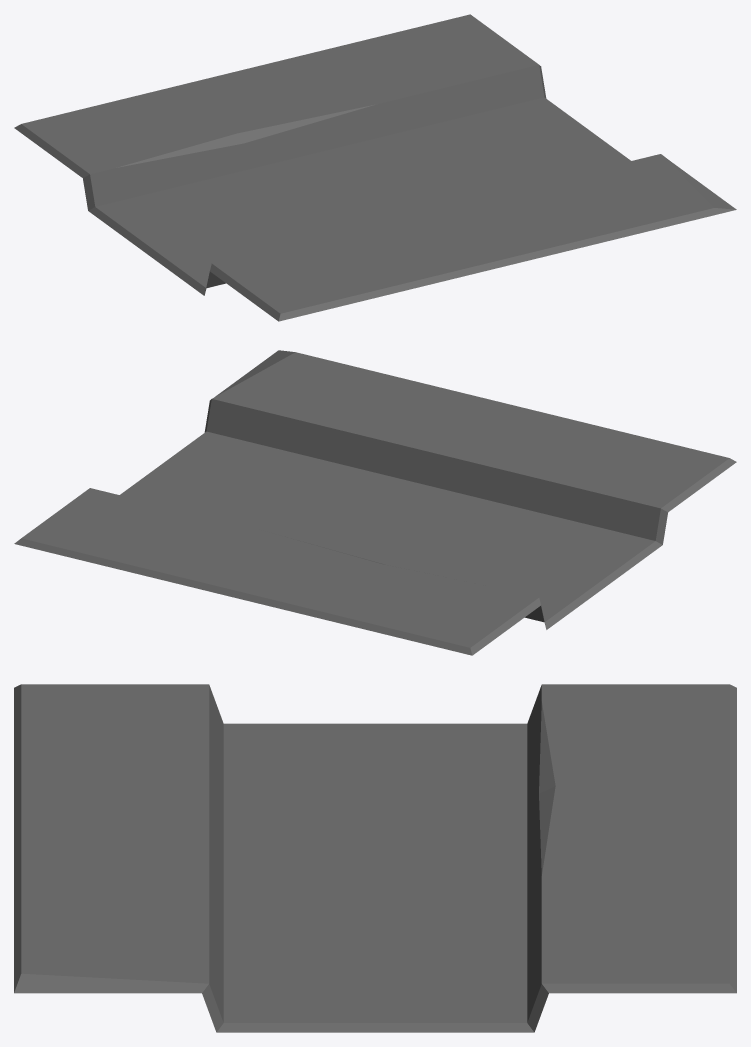
File: SM_Envr_Canal_Floor_05.fbx
3 views of the same model, one above another, from view 1: azimuth 30°, elevation 25°; view 2: azimuth 150°, elevation 25°; view 3: azimuth 270°, elevation 25° (orthographic). The views are drawn at different scales.
Visible parts, largest first — view 1: SM_Envr_Canal_Floor_05; view 2: SM_Envr_Canal_Floor_05; view 3: SM_Envr_Canal_Floor_05.
Boxes of the visible parts, x1,y1,x2,y2 form: SM_Envr_Canal_Floor_05: (14, 14, 736, 321); SM_Envr_Canal_Floor_05: (14, 350, 736, 655); SM_Envr_Canal_Floor_05: (14, 684, 736, 1032).
Bounding box in the file's own units: 500 × 35 × 500.
